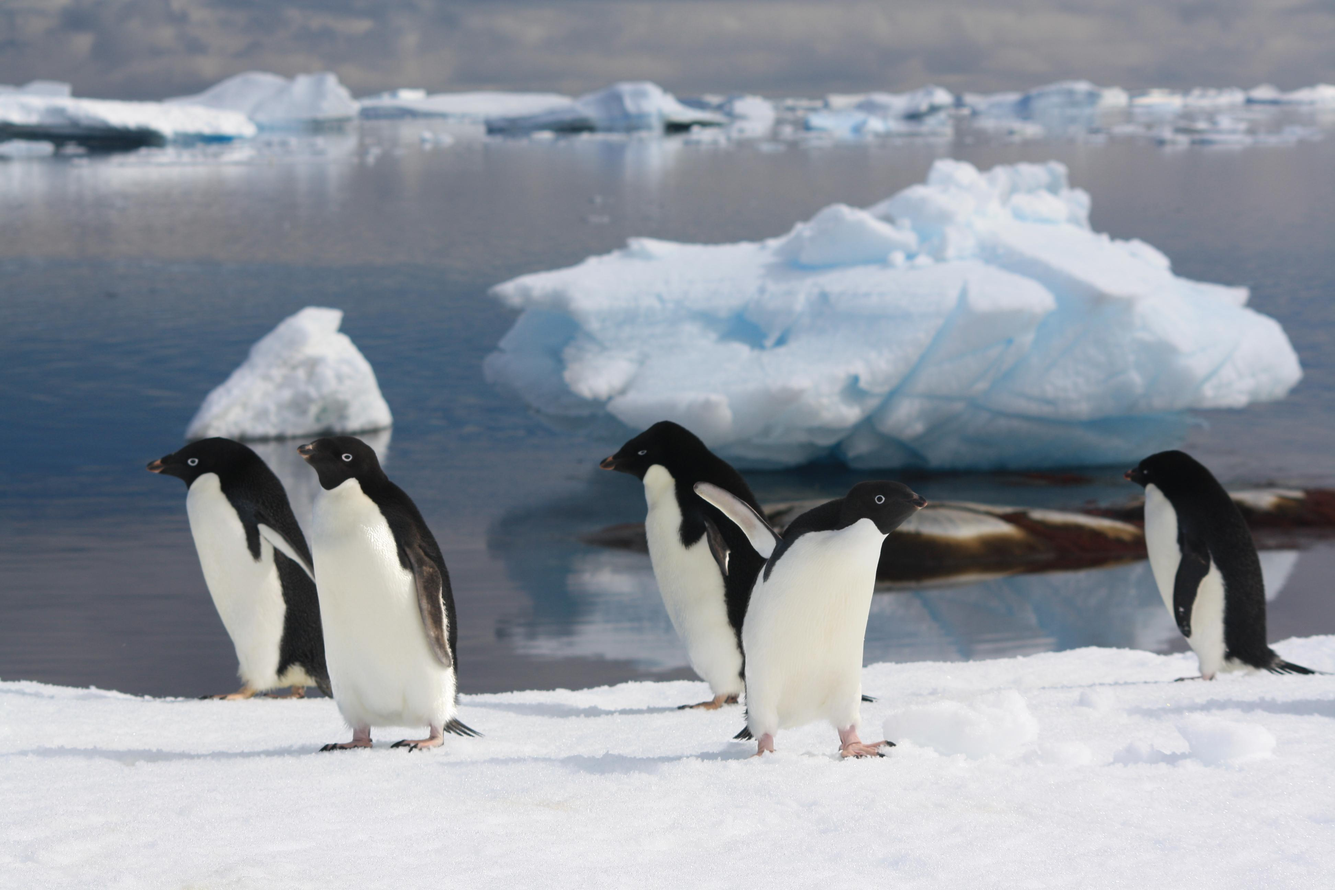Penguin: (694, 482, 925, 756), (297, 435, 477, 751), (146, 438, 331, 699), (600, 422, 767, 709), (1124, 451, 1311, 681)
